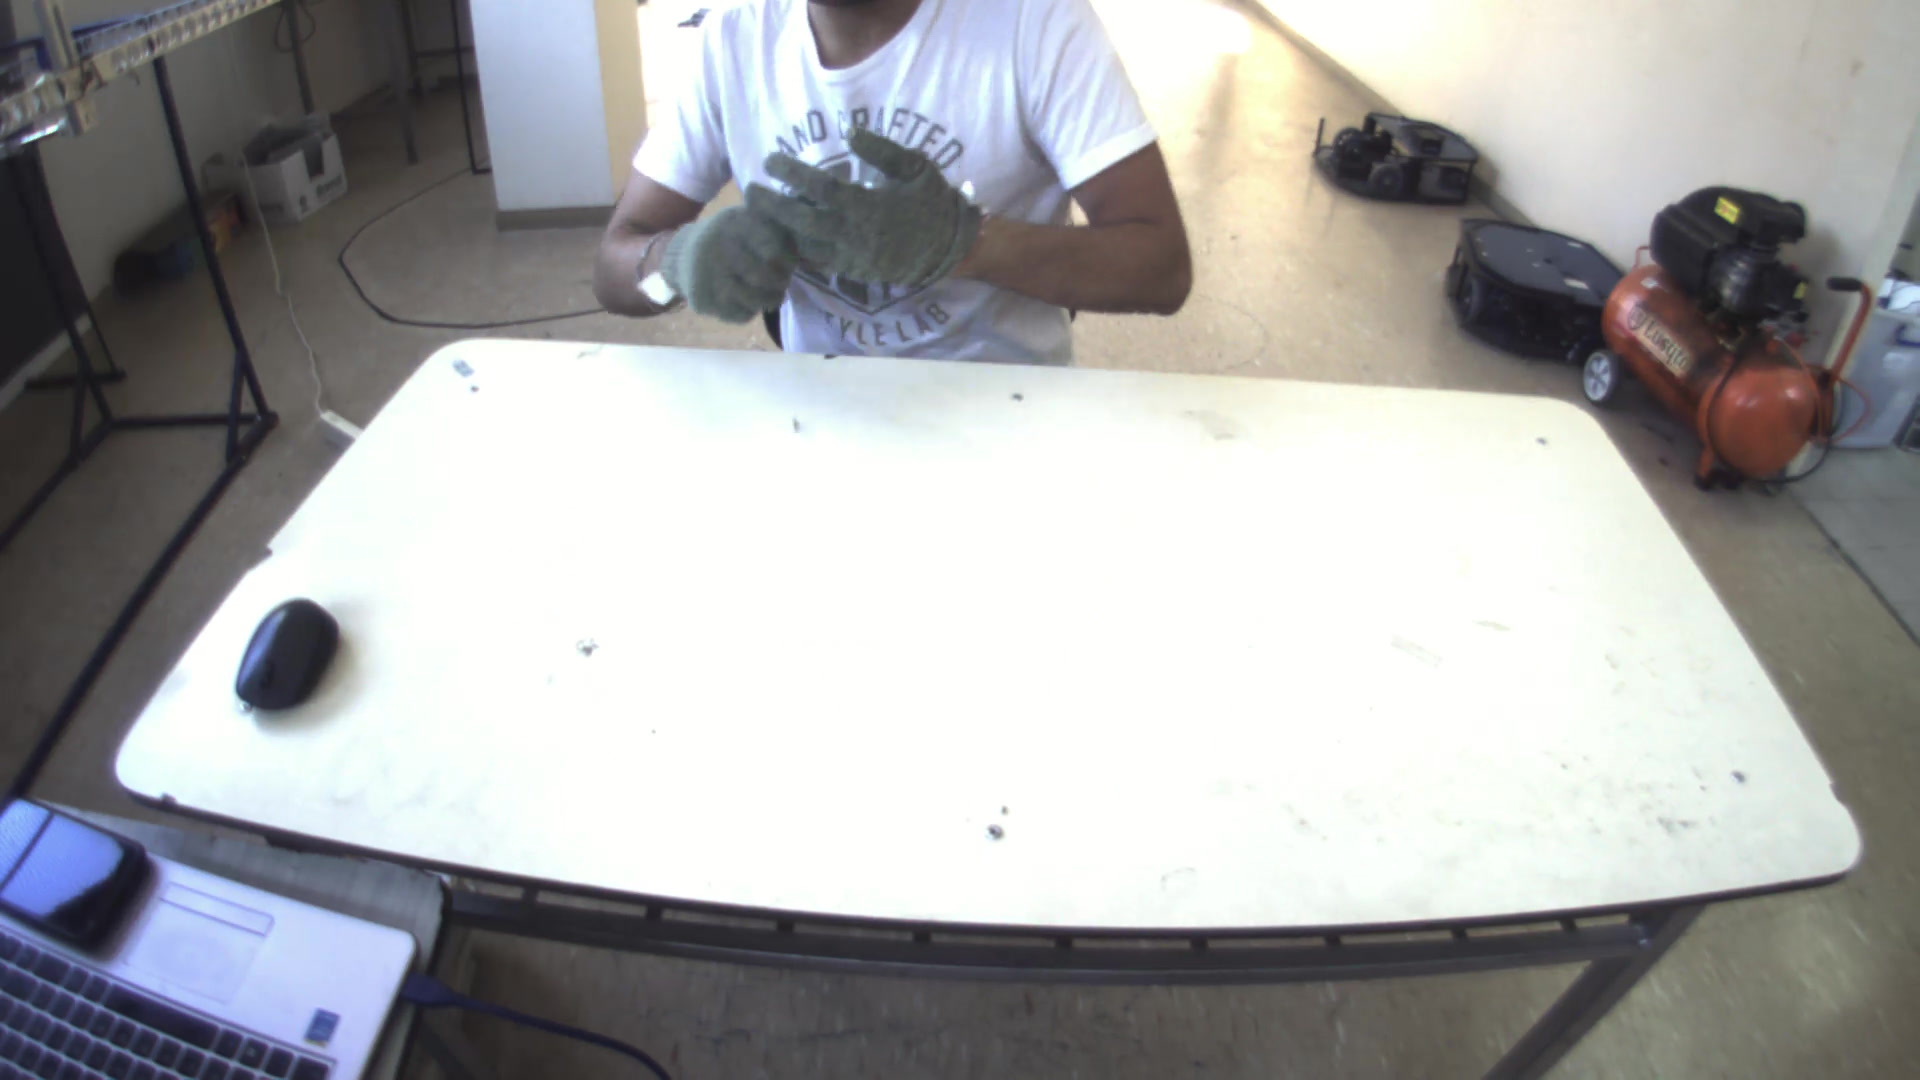hand: (748, 107, 988, 309), (657, 215, 790, 326)
